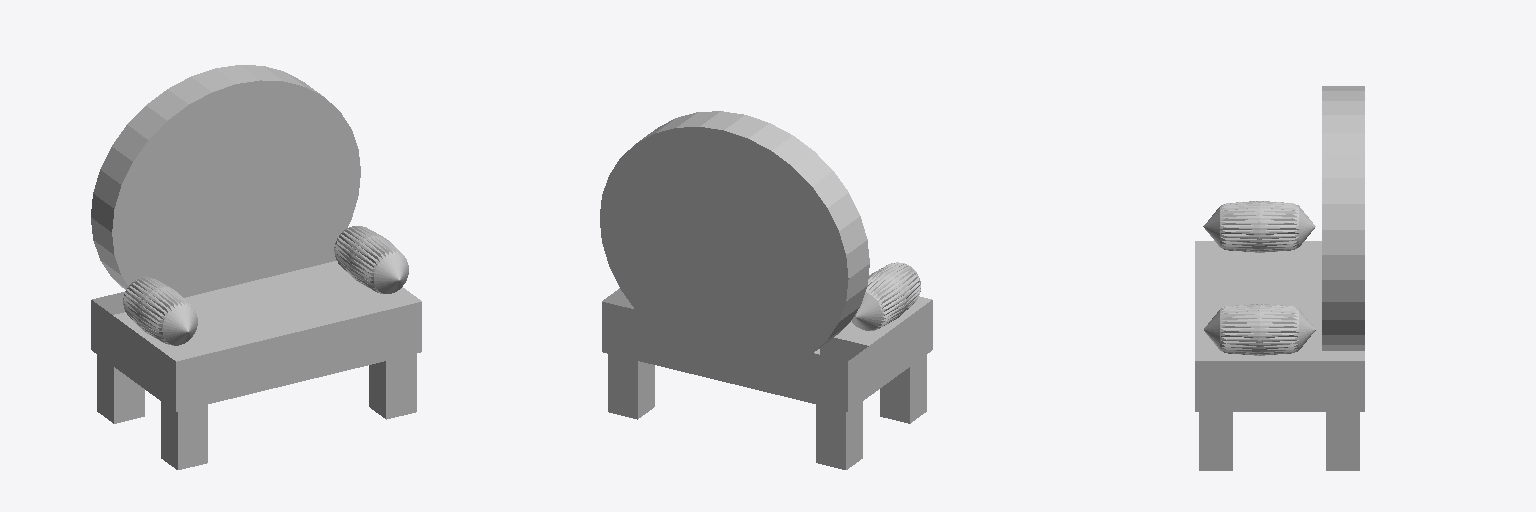
Rendered from SideRajeChair.obj.
3 views of the same model, side by side, from view 1: azimuth 30°, elevation 25°; view 2: azimuth 150°, elevation 25°; view 3: azimuth 270°, elevation 25° (orthographic).
Visible parts, largest first — view 1: Cylinder, Cube_Cube.001, Cylinder.001, Cylinder.009; view 2: Cylinder, Cube_Cube.001, Cylinder.009; view 3: Cube_Cube.001, Cylinder, Cylinder.001, Cylinder.009.
Part boxes in pixels (left/top/right/bottom): Cylinder: left=91, top=65, right=360, bottom=297; Cube_Cube.001: left=91, top=252, right=421, bottom=469; Cylinder.001: left=334, top=226, right=408, bottom=293; Cylinder.009: left=123, top=277, right=197, bottom=345; Cylinder: left=600, top=111, right=869, bottom=370; Cube_Cube.001: left=602, top=288, right=932, bottom=469; Cylinder.009: left=851, top=262, right=920, bottom=330; Cube_Cube.001: left=1195, top=241, right=1364, bottom=470; Cylinder: left=1322, top=86, right=1364, bottom=350; Cylinder.001: left=1204, top=304, right=1315, bottom=355; Cylinder.009: left=1203, top=201, right=1315, bottom=252.
Bounding box in the file's own units: 3.48 × 4.07 × 2.